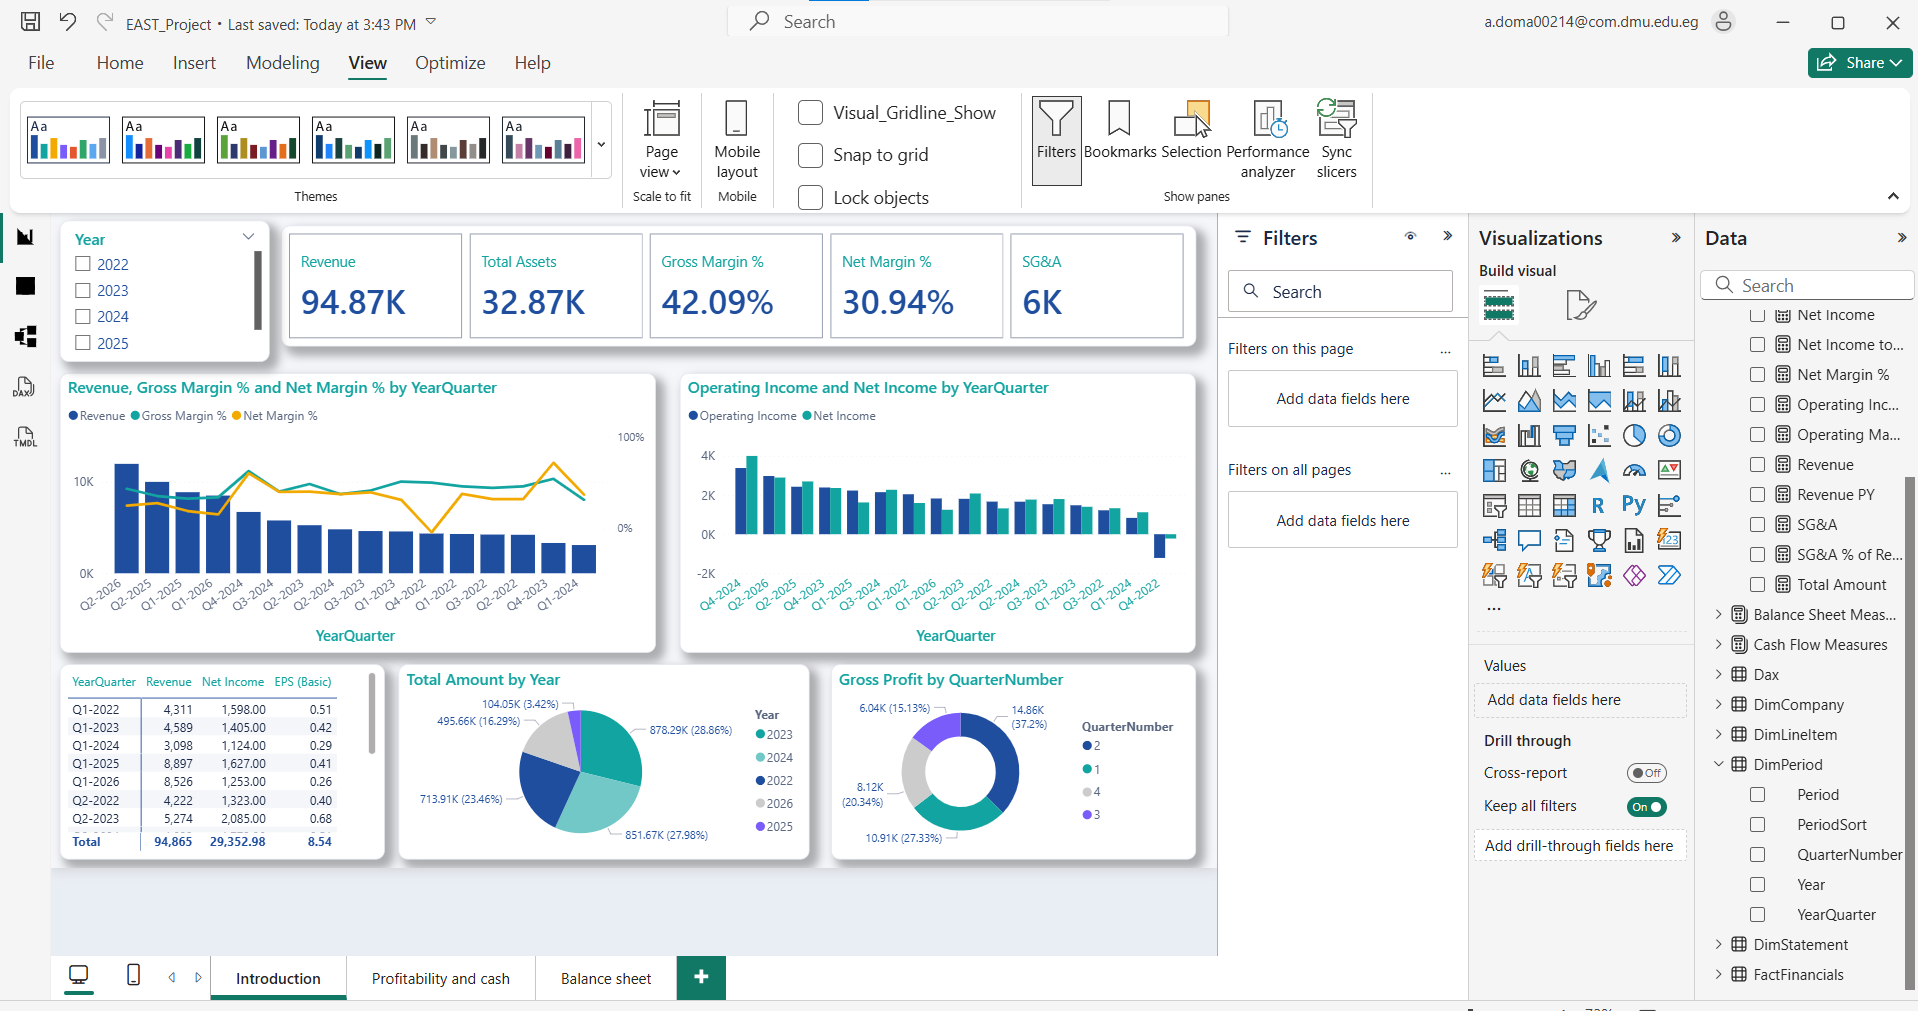

What the dashboard file says about the page in this screenshot:
{"tool":"powerbi","page":{"name":"Introduction","canvas":[1280,720],"ordinal":0},"visuals":[{"type":"cardVisual","fields":{"Data":["4.2 Income Statement Measures.Revenue","Balance Sheet Measures.Total Assets","4.2 Income Statement Measures.Gross Margin %","4.2 Income Statement Measures.Net Margin %","4.2 Income Statement Measures.SG&A"]},"box":[252.5,13.7,1004.5,133.1],"z":0},{"type":"lineClusteredColumnComboChart","fields":{"Category":["DimPeriod.YearQuarter"],"Y":["4.2 Income Statement Measures.Revenue"],"Y2":["4.2 Income Statement Measures.Gross Margin %","4.2 Income Statement Measures.Net Margin %"]},"box":[9.6,175.6,654.5,307.4],"z":1000},{"type":"clusteredColumnChart","fields":{"Y":["4.2 Income Statement Measures.Operating Income","4.2 Income Statement Measures.Net Income"],"Category":["DimPeriod.YearQuarter"]},"box":[690.2,175.6,566.7,307.4],"z":2000},{"type":"pivotTable","fields":{"Rows":["DimPeriod.YearQuarter"],"Values":["4.2 Income Statement Measures.Revenue","4.2 Income Statement Measures.Net Income","4.2 Income Statement Measures.EPS (Basic)"]},"box":[9.6,495.4,356.8,214.1],"z":3000},{"type":"slicer","fields":{"Values":["DimPeriod.Year"]},"box":[9.6,8.2,230.5,155.1],"z":4000},{"type":"pieChart","fields":{"Category":["DimPeriod.Year"],"Y":["4.2 Income Statement Measures.Total Amount"]},"box":[381.5,495.4,451.5,214.1],"z":5000},{"type":"donutChart","fields":{"Y":["4.2 Income Statement Measures.Gross Profit"],"Category":["DimPeriod.QuarterNumber"]},"box":[856.3,495.4,400.7,214.1],"z":6000}]}

Visuals, with their boxes on the page's 1280x720 design canvas (x1, y1, x2, y2). These are canvas units, not pixel positions in the 1918x1011 screenshot, which may show the page scaled, cropped or inside an application window:
cardVisual - 4.2 Income Statement Measures.Revenue x Balance Sheet Measures.Total Assets: 252 14 1257 147
lineClusteredColumnComboChart - DimPeriod.YearQuarter x 4.2 Income Statement Measures.Revenue: 10 176 664 483
clusteredColumnChart - 4.2 Income Statement Measures.Operating Income x 4.2 Income Statement Measures.Net Income: 690 176 1257 483
pivotTable - DimPeriod.YearQuarter x 4.2 Income Statement Measures.Revenue: 10 495 366 710
slicer - DimPeriod.Year: 10 8 240 163
pieChart - DimPeriod.Year x 4.2 Income Statement Measures.Total Amount: 382 495 833 710
donutChart - 4.2 Income Statement Measures.Gross Profit x DimPeriod.QuarterNumber: 856 495 1257 710
